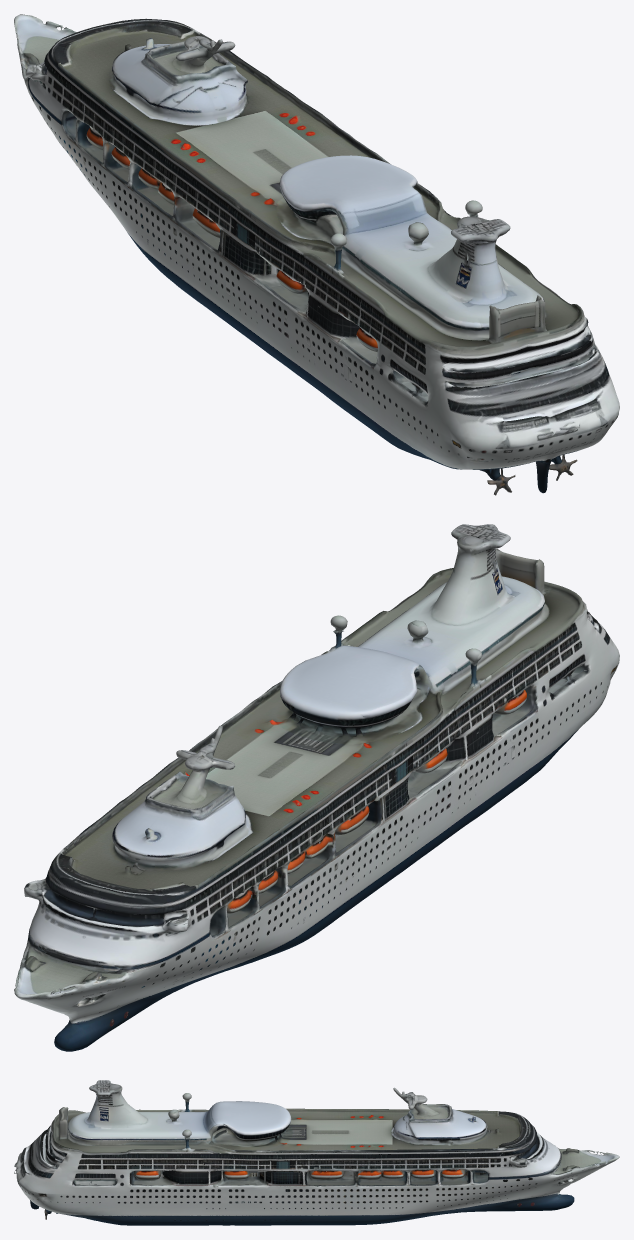
The model's file is tripo_pbr_model_9f2828ec-aab5-4b3b-b9e7-6b65e54efc37.fbx.
3 renders of one model, top to bottom at view 1: azimuth 30°, elevation 25°; view 2: azimuth 150°, elevation 25°; view 3: azimuth 270°, elevation 25°, orthographic. The views are drawn at different scales.
Visible parts, largest first — view 1: tripo_node_9f2828ec; view 2: tripo_node_9f2828ec; view 3: tripo_node_9f2828ec.
Boxes of the visible parts, x1,y1,x2,y2 form: tripo_node_9f2828ec: [14, 14, 619, 495]; tripo_node_9f2828ec: [14, 524, 619, 1051]; tripo_node_9f2828ec: [14, 1080, 619, 1225].
Bounding box in the file's own units: 17.29 × 22.35 × 98.44.
Materials: 1 (1 with a texture image).
